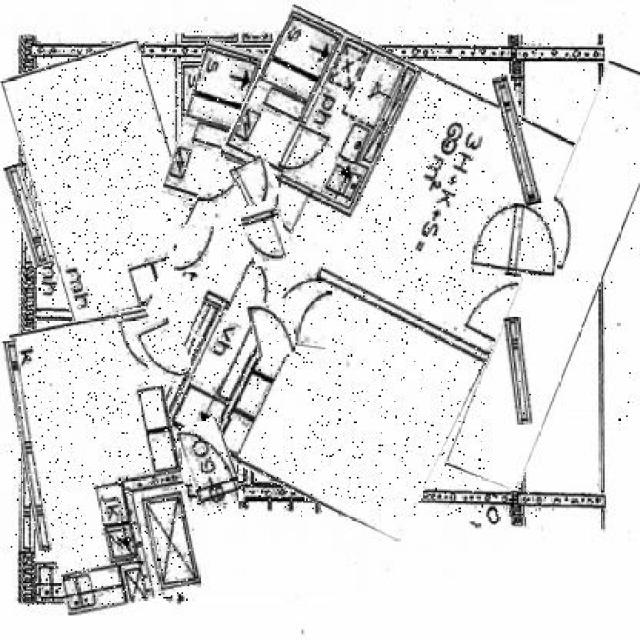door: (476, 202, 562, 278), (182, 418, 238, 511), (138, 318, 191, 384), (251, 300, 295, 357), (246, 209, 289, 265), (297, 289, 332, 349), (236, 157, 278, 205), (175, 226, 214, 272)
window: (11, 338, 43, 552), (502, 74, 536, 206), (10, 163, 44, 268), (506, 317, 529, 425)
zone: (142, 31, 550, 517), (486, 60, 639, 492), (23, 312, 191, 610), (18, 46, 195, 322), (172, 49, 332, 225)
